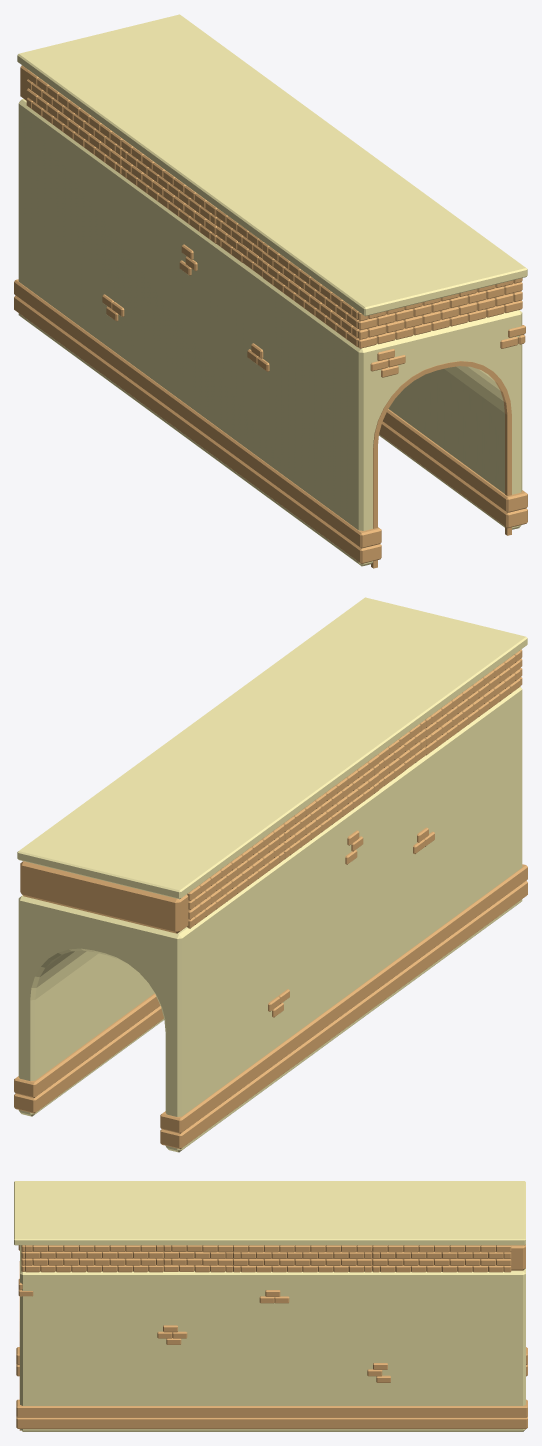
Rendered from Bridge V03.fbx.
3 renders of one model, top to bottom at view 1: azimuth 30°, elevation 25°; view 2: azimuth 150°, elevation 25°; view 3: azimuth 270°, elevation 25°, orthographic. The views are drawn at different scales.
Parts seen in each view (by area): view 1: Cube.054; view 2: Cube.054; view 3: Cube.054.
Part boxes in pixels (left/top/right/bottom): Cube.054: left=14, top=14, right=527, bottom=568; Cube.054: left=14, top=597, right=527, bottom=1152; Cube.054: left=14, top=1181, right=527, bottom=1431.
Size of the model in its own units: 212 by 317 by 753.
